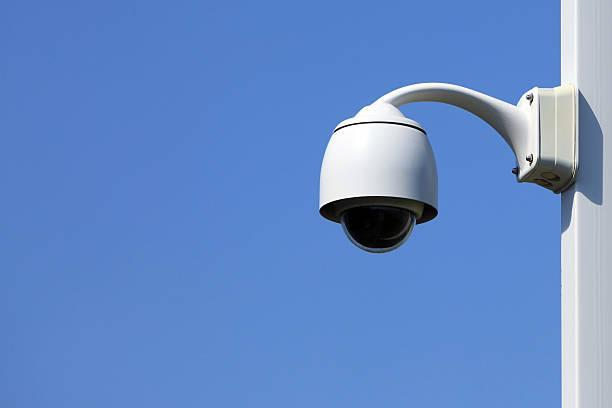camera: (303, 64, 467, 270)
